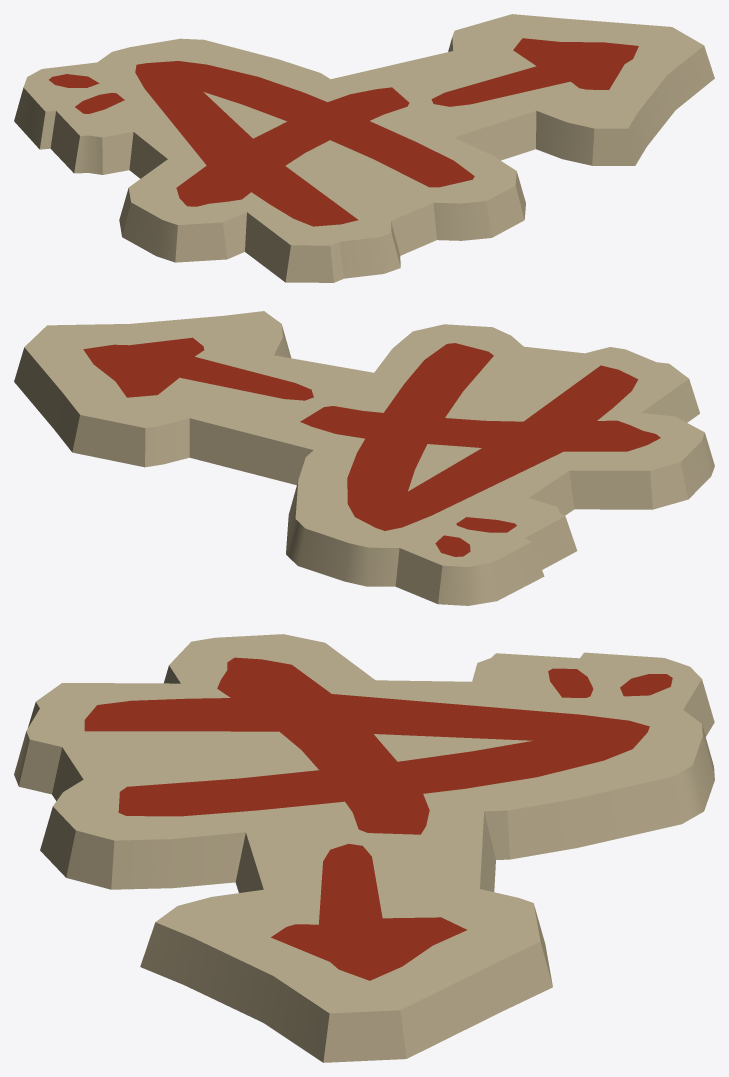
File: DE_Guide_A_04.fbx
3 renders of one model, top to bottom at view 1: azimuth 30°, elevation 25°; view 2: azimuth 150°, elevation 25°; view 3: azimuth 270°, elevation 25°, orthographic. The views are drawn at different scales.
Parts seen in each view (by area): view 1: DE_Guide_A_04; view 2: DE_Guide_A_04; view 3: DE_Guide_A_04.
Part boxes in pixels (left/top/right/bottom): DE_Guide_A_04: left=14, top=14, right=714, bottom=282; DE_Guide_A_04: left=14, top=311, right=714, bottom=605; DE_Guide_A_04: left=14, top=634, right=714, bottom=1062.
Size of the model in its own units: 152 by 8.1 by 116.
